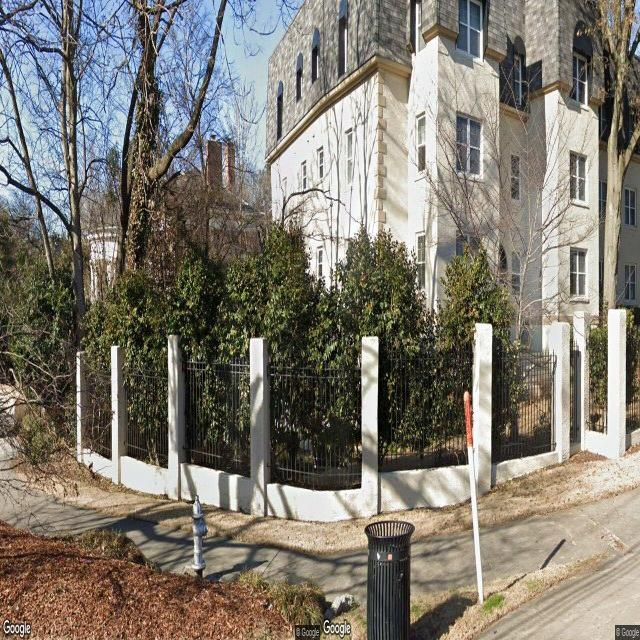trash_can: (366, 520, 414, 640)
